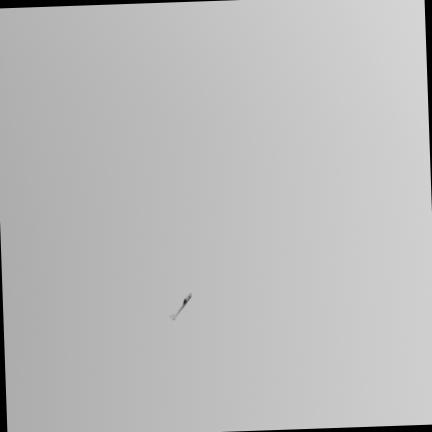Shahed: (170, 293, 191, 318)
